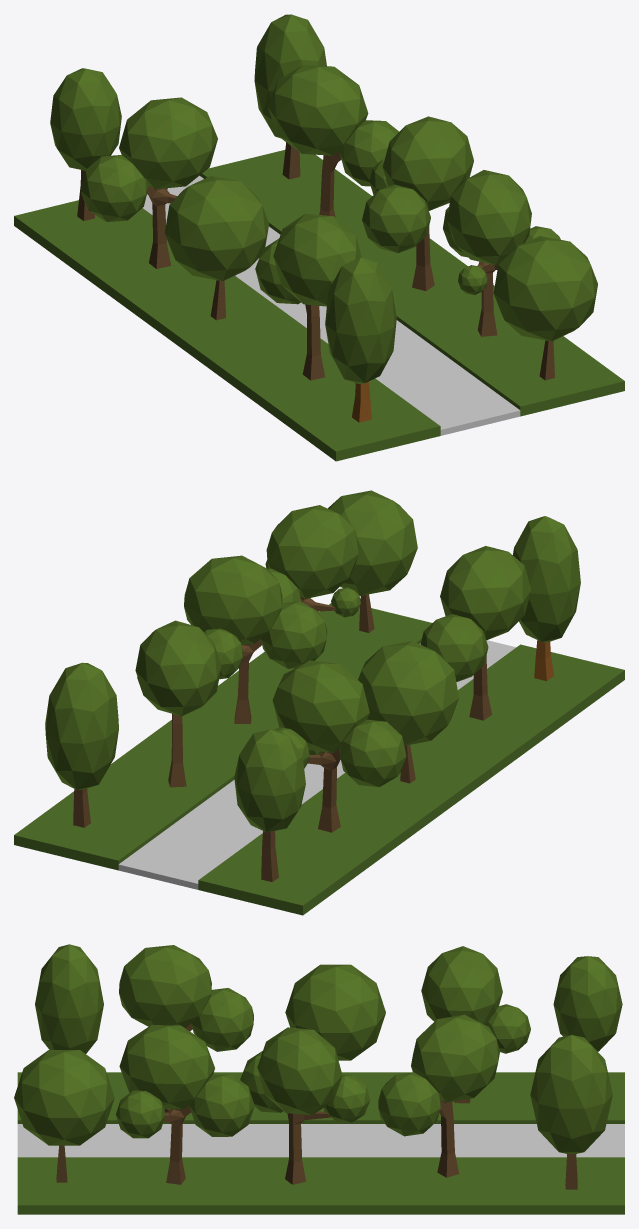
Rendered from Park.fbx.
The picture shows the model from 3 angles, top to bottom: view 1: azimuth 30°, elevation 25°; view 2: azimuth 150°, elevation 25°; view 3: azimuth 270°, elevation 25°; orthographic projection. The views are drawn at different scales.
Parts seen in each view (by area): view 1: Cube, Icosphere.007, Icosphere.006, Icosphere, Icosphere.005, Icosphere.013, Icosphere.017, Icosphere.010, Icosphere.008, Icosphere.003, Icosphere.001, Icosphere.009 (+10 smaller); view 2: Cube, Icosphere.006, Icosphere.001, Icosphere.010, Icosphere.013, Icosphere.017, Icosphere.005, Icosphere, Icosphere.003, Icosphere.007, Icosphere.008, Icosphere.012 (+11 smaller); view 3: Cube, Icosphere.007, Icosphere.001, Icosphere.006, Icosphere.003, Icosphere, Icosphere.017, Icosphere.005, Icosphere.010, Icosphere.008, Icosphere.013, Icosphere.004 (+10 smaller).
Part boxes in pixels (bbox=[...]): Cube: bbox=[14, 150, 624, 461]; Icosphere.007: bbox=[493, 236, 597, 341]; Icosphere.006: bbox=[164, 175, 268, 281]; Icosphere: bbox=[325, 257, 396, 384]; Icosphere.005: bbox=[268, 64, 368, 155]; Icosphere.013: bbox=[119, 97, 217, 189]; Icosphere.017: bbox=[447, 170, 531, 265]; Icosphere.010: bbox=[383, 116, 473, 210]; Icosphere.008: bbox=[50, 68, 121, 170]; Icosphere.003: bbox=[273, 213, 361, 306]; Icosphere.001: bbox=[254, 14, 326, 138]; Icosphere.009: bbox=[362, 184, 430, 252]; Cube: bbox=[14, 603, 624, 915]; Icosphere.006: bbox=[358, 641, 458, 745]; Icosphere.001: bbox=[45, 662, 118, 789]; Icosphere.010: bbox=[184, 555, 282, 644]; Icosphere.013: bbox=[272, 660, 369, 752]; Icosphere.017: bbox=[266, 505, 358, 598]; Icosphere.005: bbox=[135, 620, 221, 716]; Icosphere: bbox=[513, 516, 580, 642]; Icosphere.003: bbox=[440, 546, 531, 640]; Icosphere.007: bbox=[328, 490, 417, 595]; Icosphere.008: bbox=[234, 729, 305, 832]; Icosphere.012: bbox=[339, 719, 406, 787]; Cube: bbox=[17, 1072, 624, 1214]; Icosphere.007: bbox=[14, 1050, 114, 1145]; Icosphere.001: bbox=[530, 1035, 612, 1153]; Icosphere.006: bbox=[285, 964, 385, 1060]; Icosphere.003: bbox=[119, 945, 211, 1028]; Icosphere: bbox=[35, 944, 103, 1053]; Icosphere.017: bbox=[119, 1025, 214, 1109]; Icosphere.005: bbox=[411, 1014, 500, 1102]; Icosphere.010: bbox=[257, 1027, 342, 1115]; Icosphere.008: bbox=[553, 956, 622, 1051]; Icosphere.013: bbox=[421, 946, 502, 1024]; Icosphere.004: bbox=[378, 1072, 440, 1136].
Bounding box in the file's own units: 345 × 187 × 639.
